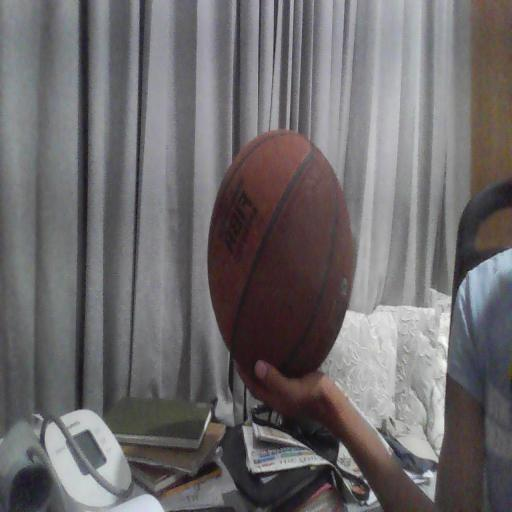basketball: (208, 131, 353, 376)
